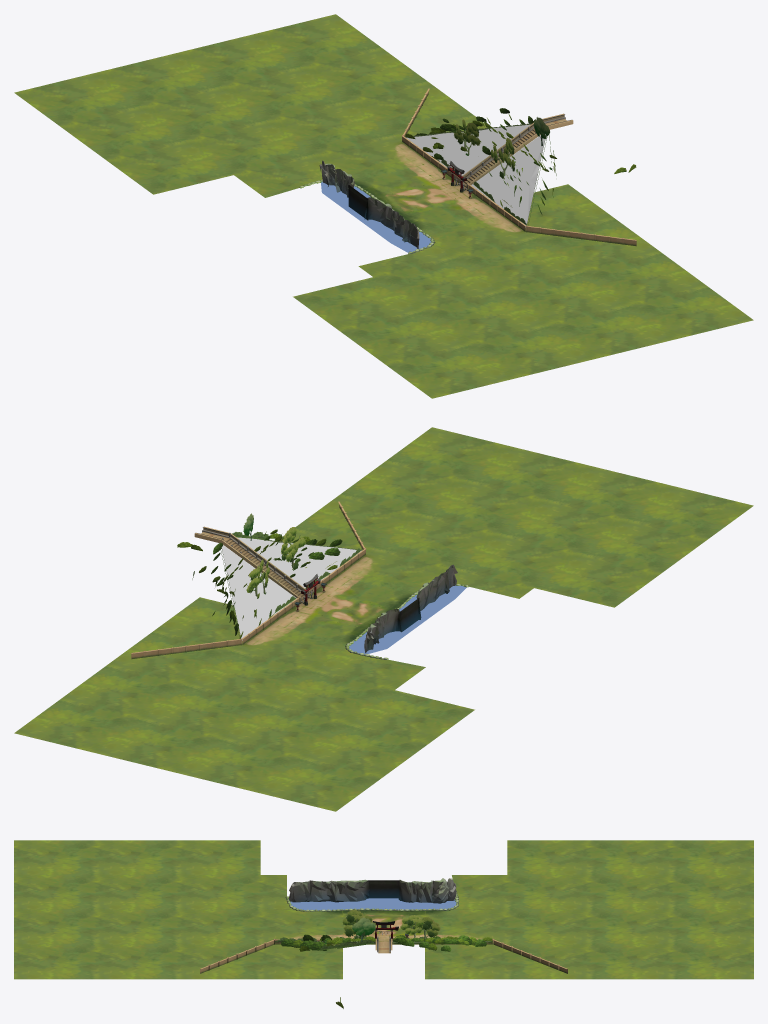
File: testninja.fbx
3 renders of one model, top to bottom at view 1: azimuth 30°, elevation 25°; view 2: azimuth 150°, elevation 25°; view 3: azimuth 270°, elevation 25°, orthographic. The views are drawn at different scales.
Parts seen in each view (by area): view 1: polySurface42765, pPlane8, polySurface39411, pPlane4, polySurface42761, Cliff_05_Grey2, polySurface41087, pPlane23, pCube195, polySurface39400; view 2: polySurface42765, pPlane8, polySurface39411, pPlane4, polySurface42761, Cliff_05_Grey2, polySurface41087, pPlane23, pCube195, polySurface39402; view 3: polySurface42765, pPlane8, Cliff_05_Grey2, polySurface42761, pPlane23, pPlane4, polySurface32680, polySurface39400, polySurface39402.
Part boxes in pixels (bbox=[...]): polySurface42765: bbox=[14, 14, 753, 398]; pPlane8: bbox=[314, 136, 533, 257]; polySurface39411: bbox=[405, 123, 547, 227]; pPlane4: bbox=[363, 170, 486, 222]; polySurface42761: bbox=[405, 108, 556, 225]; Cliff_05_Grey2: bbox=[319, 160, 419, 248]; polySurface41087: bbox=[441, 113, 573, 198]; pPlane23: bbox=[321, 181, 431, 252]; pCube195: bbox=[402, 136, 525, 231]; polySurface39400: bbox=[525, 225, 636, 246]; polySurface42765: bbox=[14, 427, 753, 811]; pPlane8: bbox=[234, 549, 448, 670]; polySurface39411: bbox=[220, 536, 362, 640]; pPlane4: bbox=[281, 583, 404, 635]; polySurface42761: bbox=[192, 513, 361, 638]; Cliff_05_Grey2: bbox=[364, 564, 457, 653]; polySurface41087: bbox=[194, 526, 326, 611]; pPlane23: bbox=[349, 585, 466, 654]; pCube195: bbox=[242, 549, 365, 644]; polySurface39402: bbox=[131, 638, 242, 659]; polySurface42765: bbox=[14, 840, 753, 979]; pPlane8: bbox=[260, 909, 507, 944]; Cliff_05_Grey2: bbox=[288, 878, 456, 903]; polySurface42761: bbox=[275, 910, 492, 951]; pPlane23: bbox=[288, 898, 456, 910]; pPlane4: bbox=[343, 909, 424, 944]; polySurface32680: bbox=[285, 890, 459, 911]; polySurface39400: bbox=[200, 939, 275, 973]; polySurface39402: bbox=[492, 939, 567, 973].
Size of the model in its own units: 989 by 161 by 1831.
